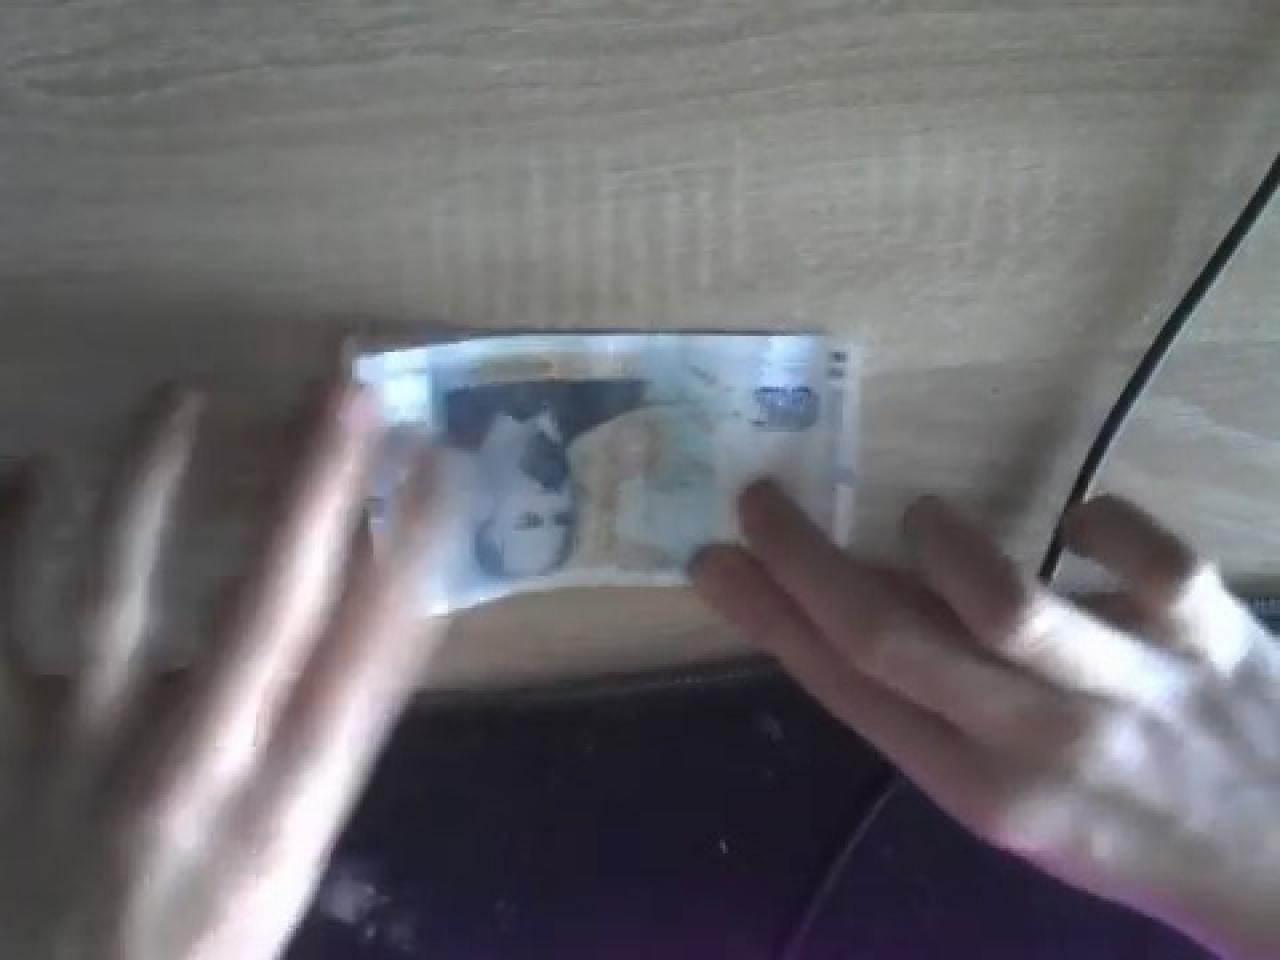20leva: (342, 328, 859, 584)
